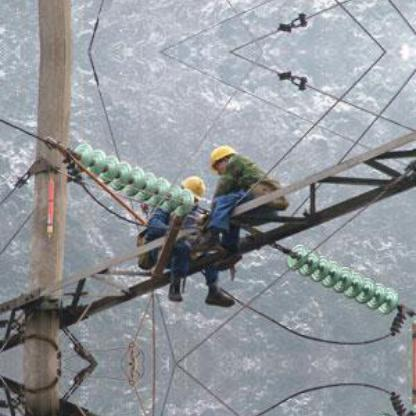helmet: (180, 174, 211, 203), (208, 144, 241, 171)
